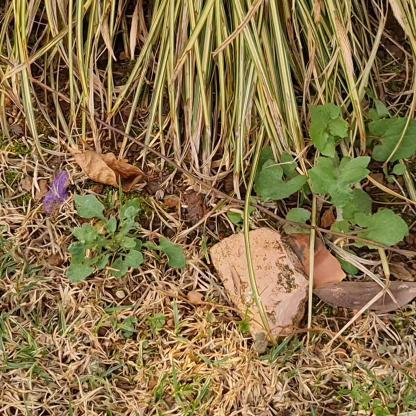Weeds: (252, 99, 415, 277), (65, 193, 186, 283)
